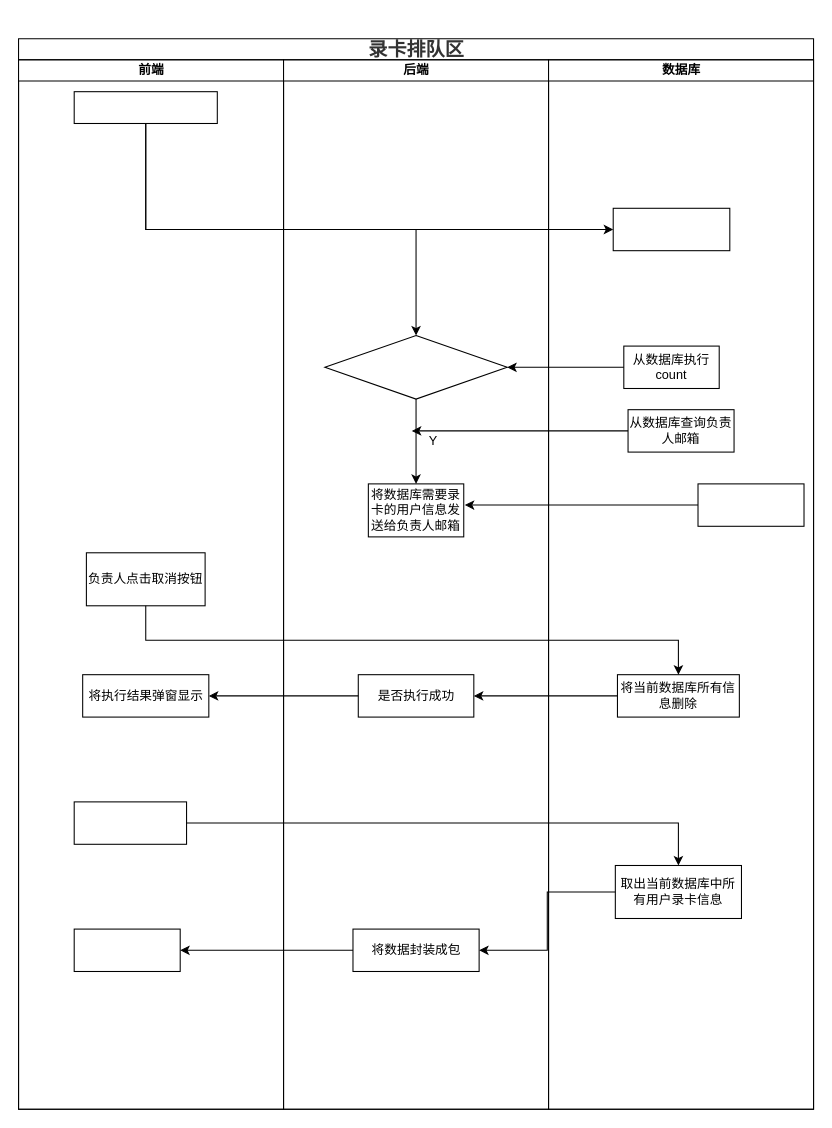
Image size: 832x1128. Some labels were removed from this diagram. The centre of each missing label's shape, as x and y in pixels:
"从数据库取出数据" goes at point 750,504.
"判断当前count是否等于5" goes at point 415,366.
"将用户信息存入数据库" goes at point 671,229.
"接收用户数据" goes at point 145,107.
"用户点击录卡按钮" goes at point 130,822.
"解析展示" goes at point 126,949.
